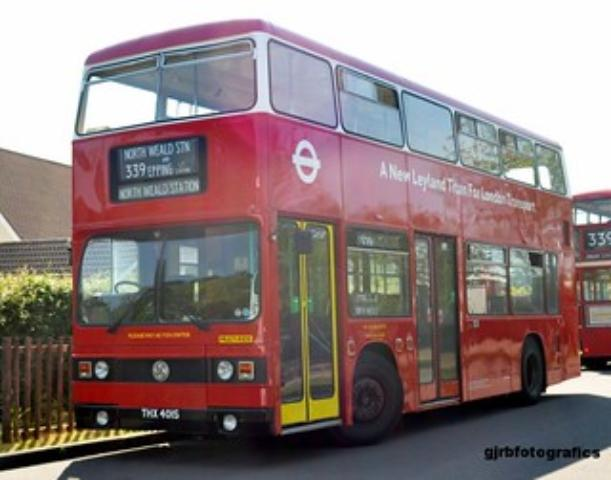bus: (69, 17, 581, 446)
